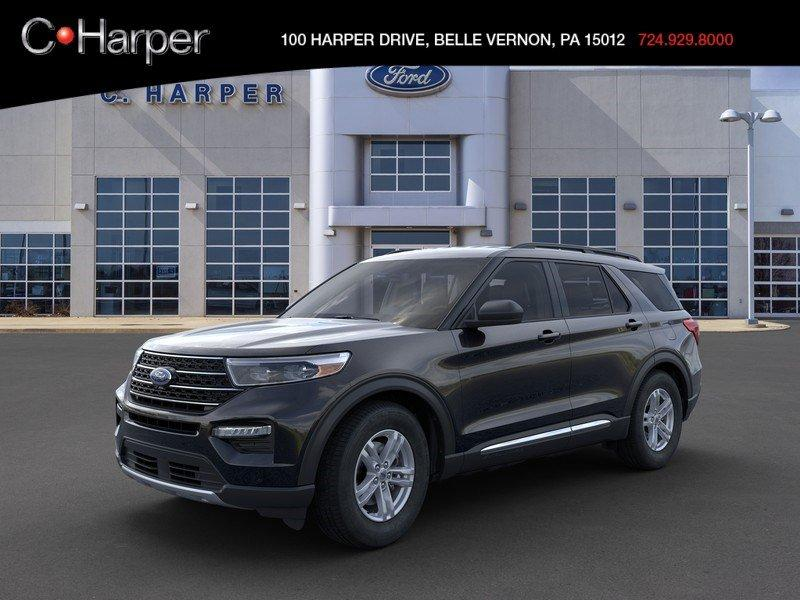Ford Explorer: (115, 243, 703, 550)
